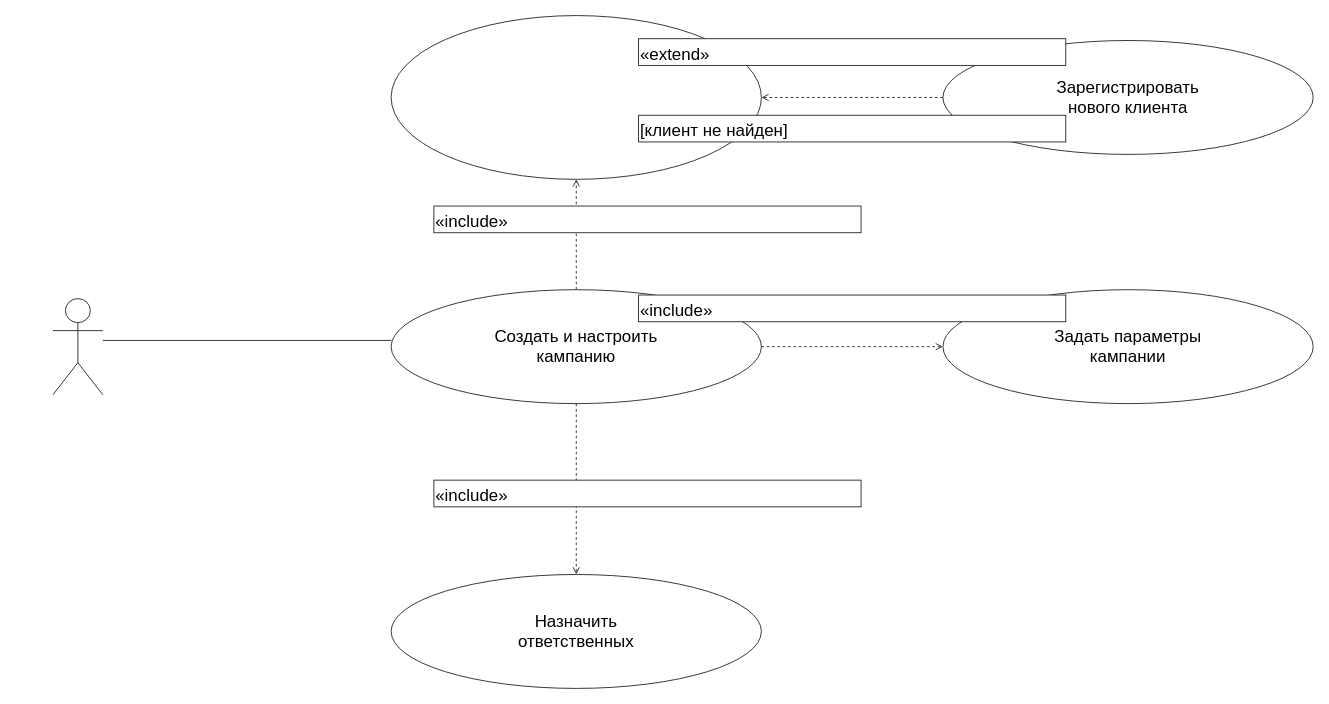
The diagram is 1329 pixels wide and 704 high, and some of its shapes have lost their labels. The shapes that lost their labels are listed below. From the top down, each one's centre as x and y in pixels, then its label:
At point (575, 97): "Определить клиента точка расширения: нетКлиента".
At point (77, 346): "SMM-менеджер".
